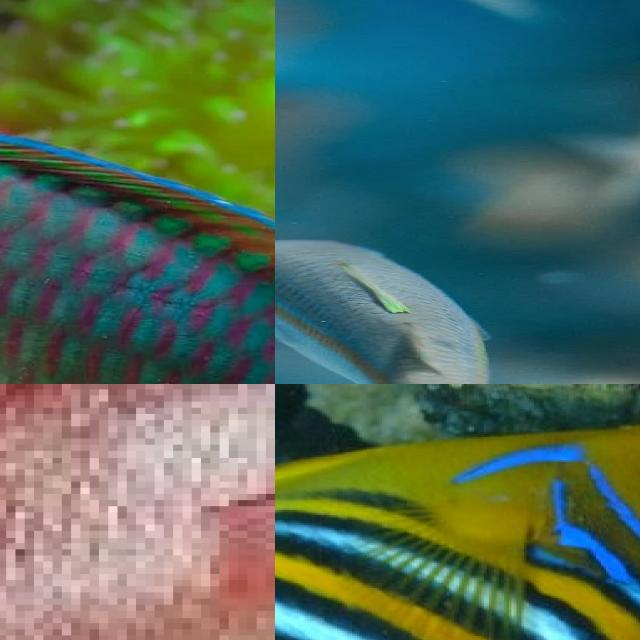fish: (0, 0, 275, 384), (275, 387, 640, 640), (0, 384, 275, 640)
